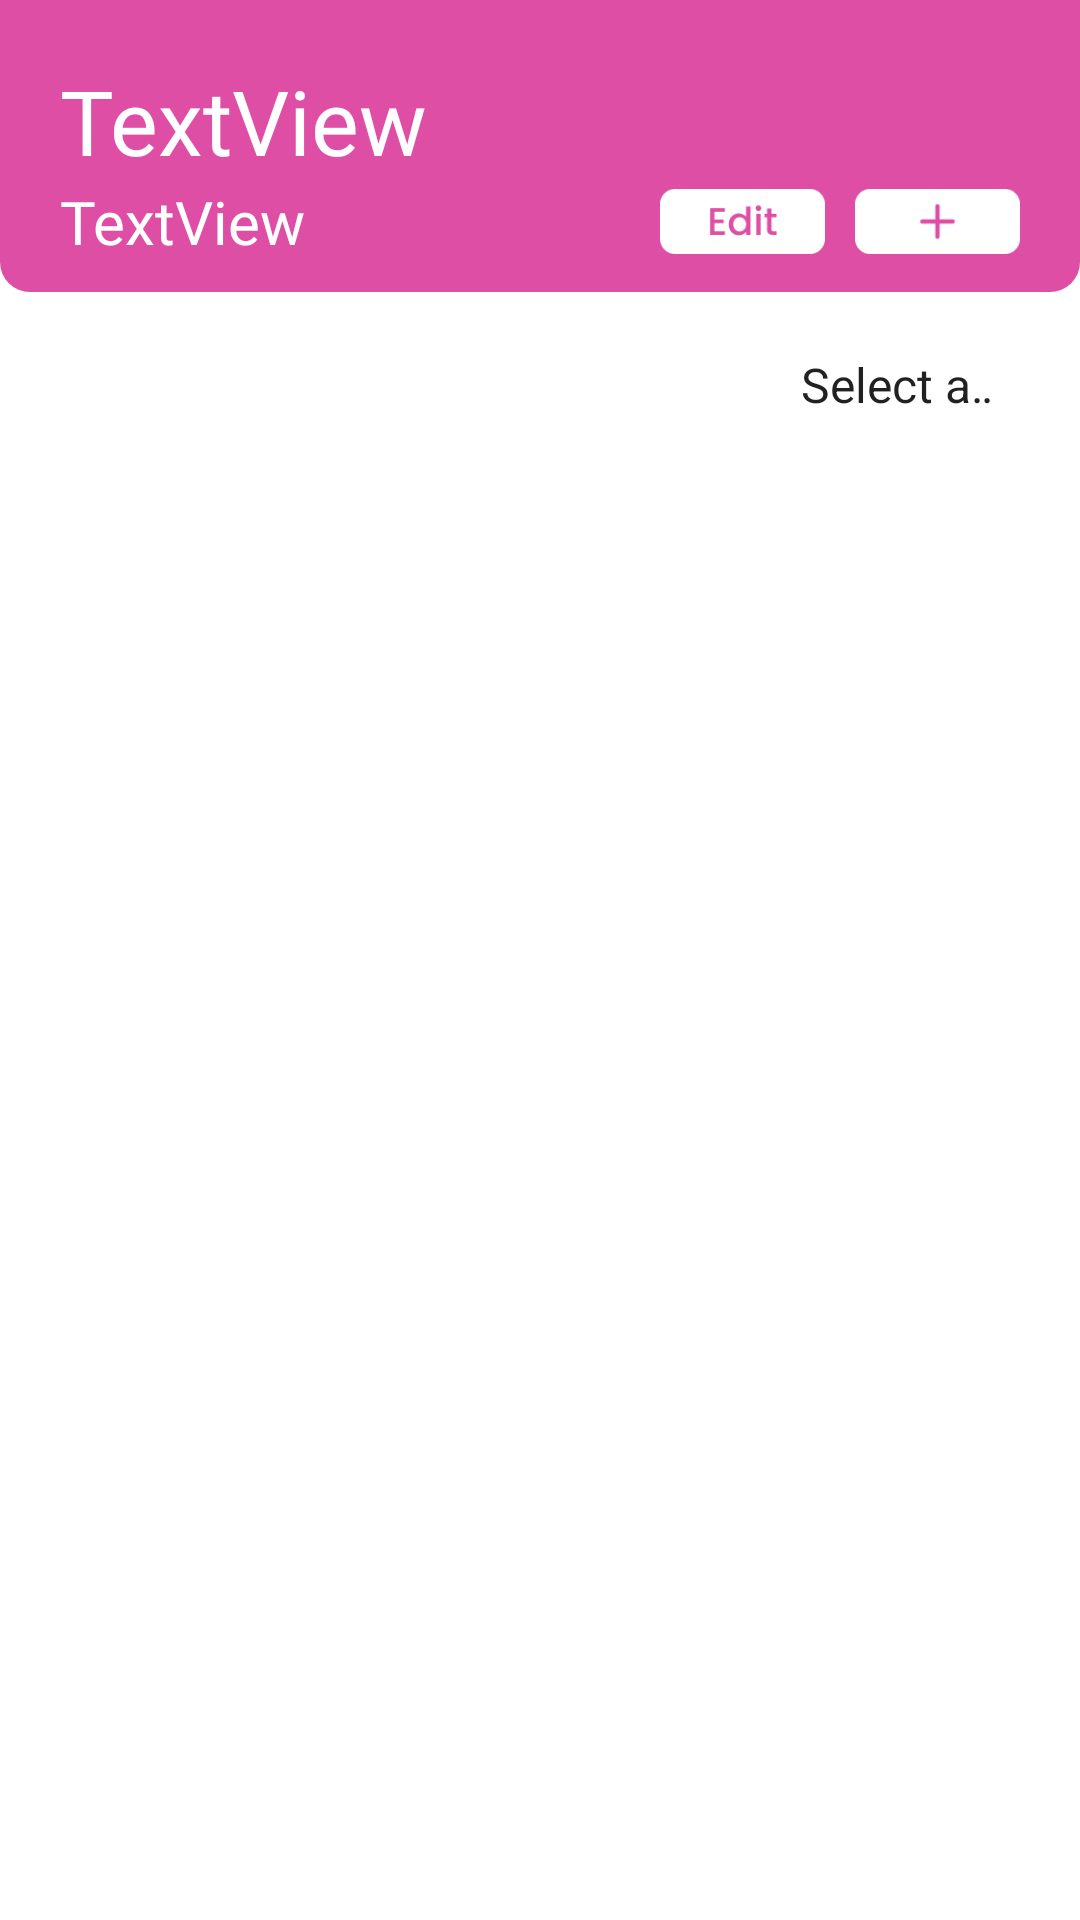

Where icons sit on this 1080×1920 app screen, as detection(x1, y1, x2, y2):
add: detection(855, 189, 1020, 254)
